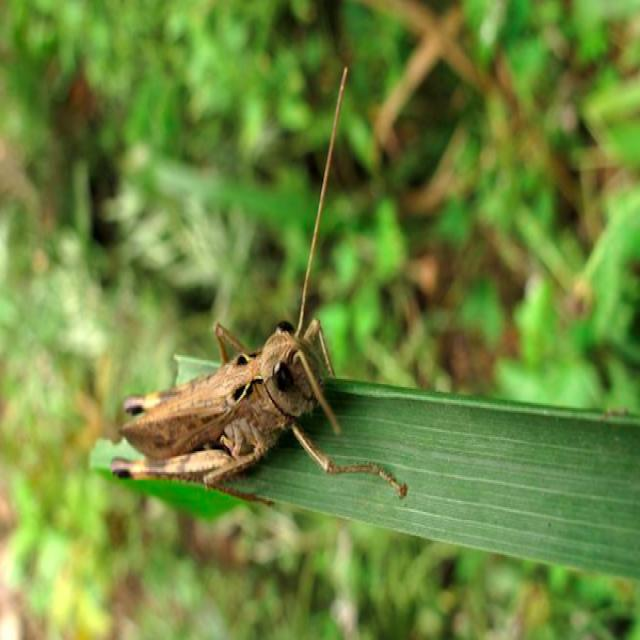ZhaMeng: (120, 312, 368, 496)
